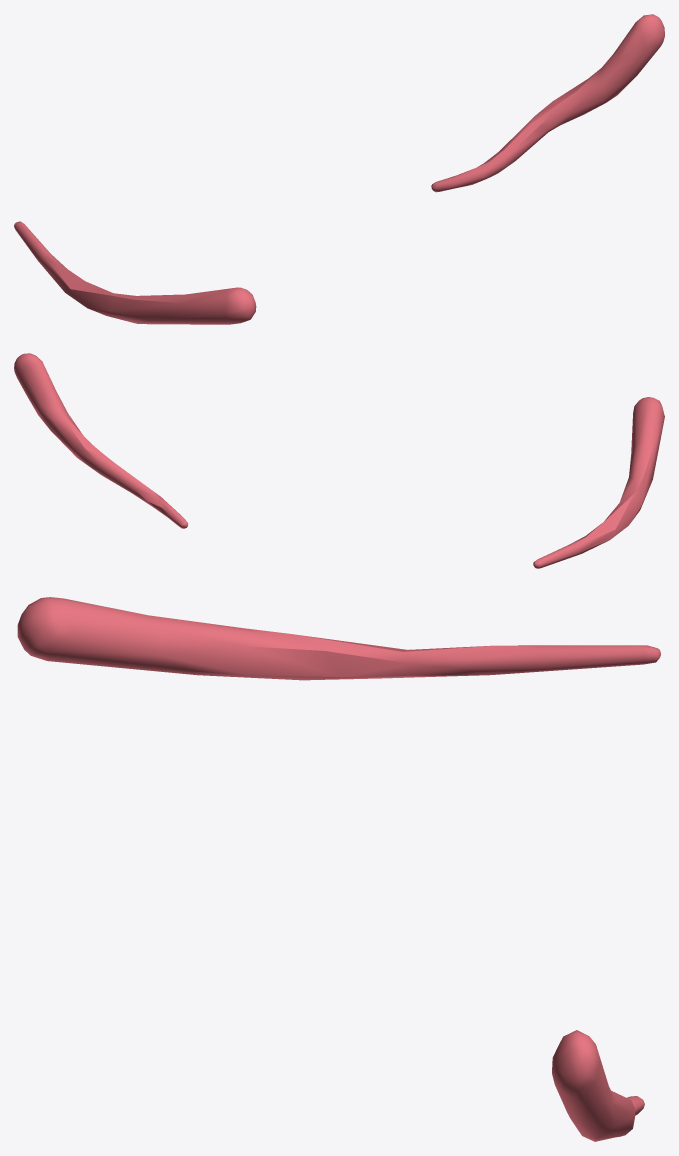
File: fma44886_fj2184.glb
3 views of the same model, one above another, from view 1: azimuth 30°, elevation 25°; view 2: azimuth 150°, elevation 25°; view 3: azimuth 270°, elevation 25° (orthographic). The views are drawn at different scales.
Visible parts, largest first — view 1: FMA44886_FJ2184; view 2: FMA44886_FJ2184; view 3: FMA44886_FJ2184.
Boxes of the visible parts, box(x1,y1,x2,y2) form: FMA44886_FJ2184: box(14, 14, 664, 324); FMA44886_FJ2184: box(14, 353, 664, 568); FMA44886_FJ2184: box(17, 597, 660, 1141).
Bounding box in the file's own units: 0.0381 × 0.00803 × 0.0191.
